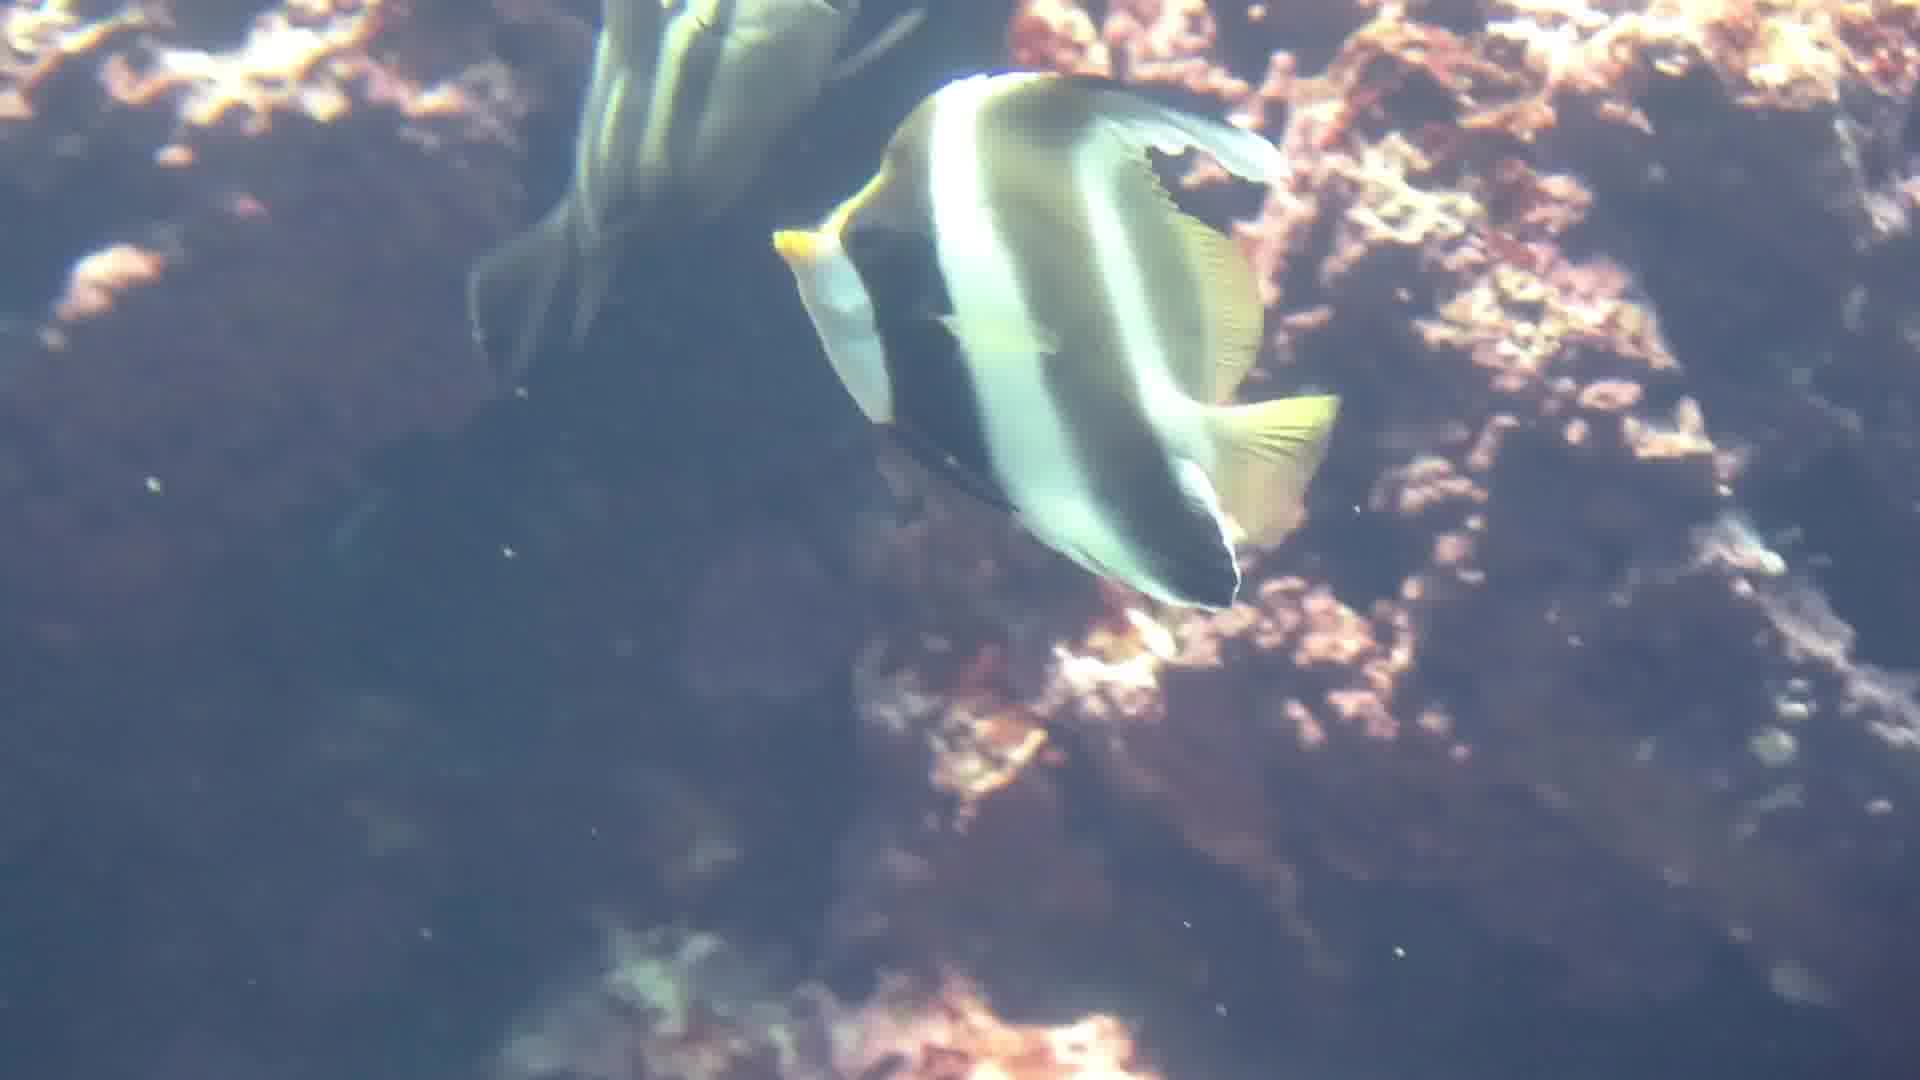Heniochus chrysostomus: (767, 29, 1408, 676)
